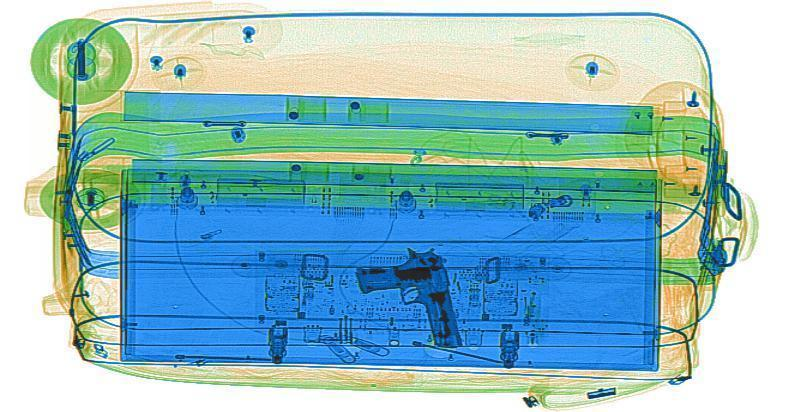Gun: (347, 245, 465, 351)
